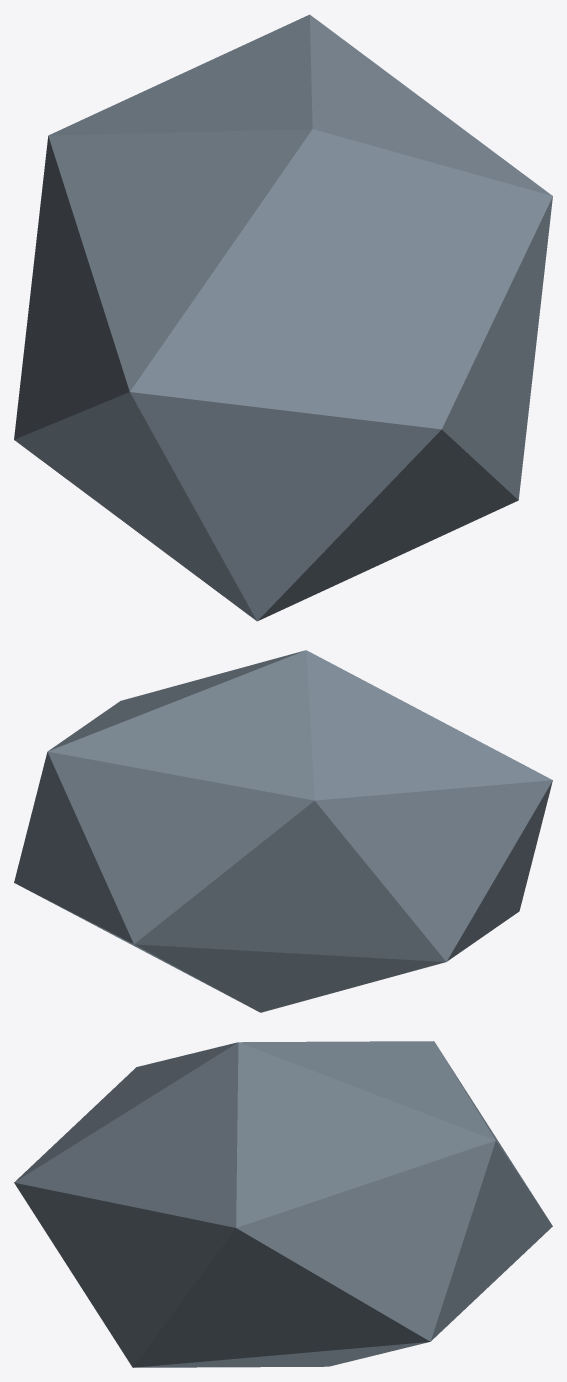
The model's file is INT_A_WallRubble_01_Stone_1.glb.
3 renders of one model, top to bottom at view 1: azimuth 30°, elevation 25°; view 2: azimuth 150°, elevation 25°; view 3: azimuth 270°, elevation 25°, orthographic. The views are drawn at different scales.
Parts seen in each view (by area): view 1: INT_A_WallRubble_01_Stone_1; view 2: INT_A_WallRubble_01_Stone_1; view 3: INT_A_WallRubble_01_Stone_1.
Part boxes in pixels (<box>): INT_A_WallRubble_01_Stone_1: <box>14,14,552,621</box>; INT_A_WallRubble_01_Stone_1: <box>14,650,552,1012</box>; INT_A_WallRubble_01_Stone_1: <box>14,1041,552,1367</box>.
Bounding box in the file's own units: 0.442 × 0.3569 × 0.5371.
